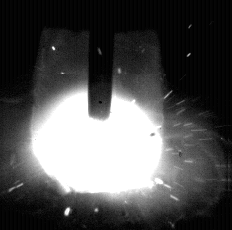arame: (89, 0, 112, 121)
poca: (31, 0, 164, 230)
